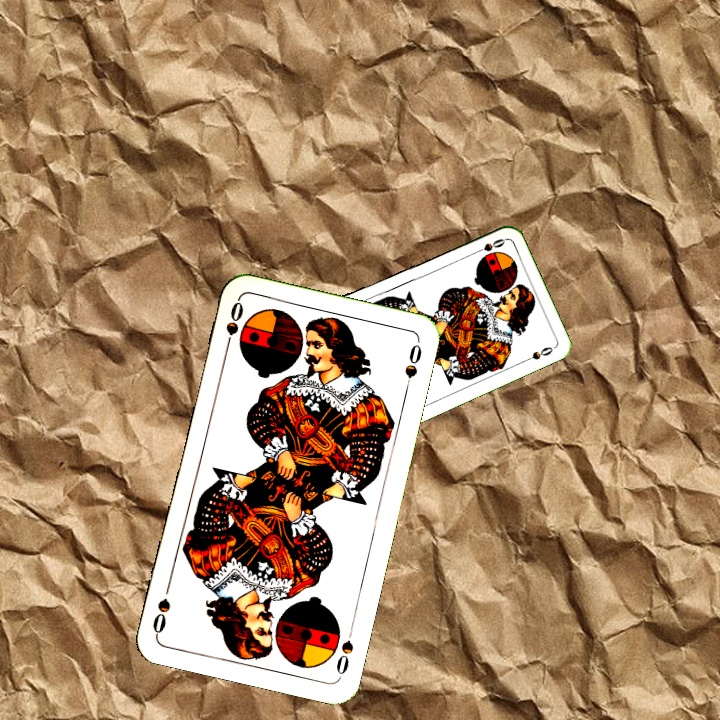SO: (221, 297, 246, 356), (332, 621, 356, 680), (469, 235, 508, 257)
